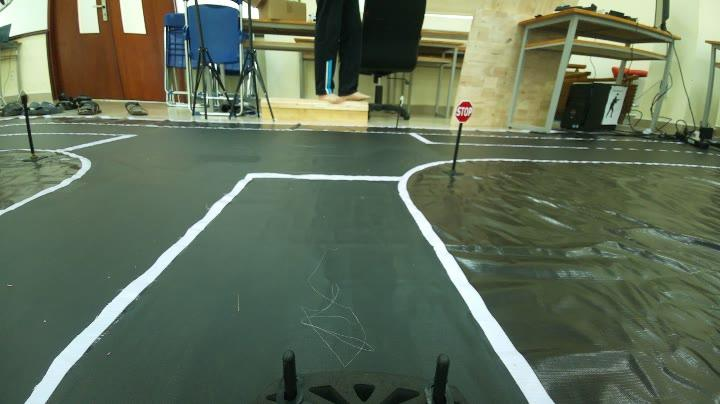stop: (449, 94, 477, 123)
